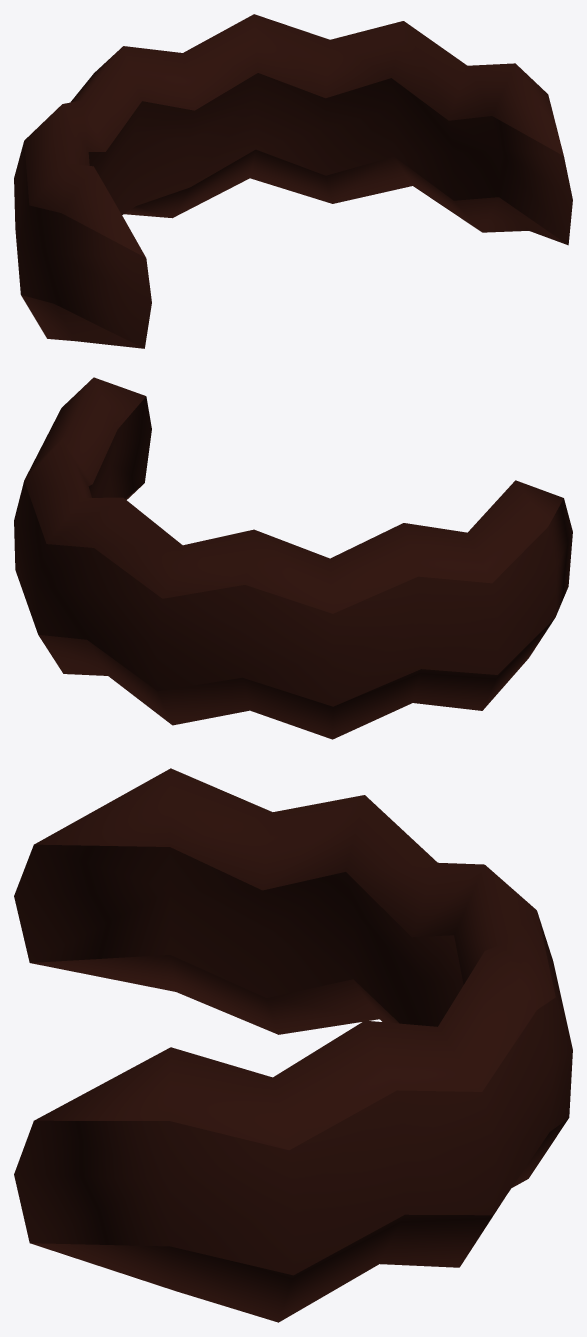
File: Hair06.FBX
3 renders of one model, top to bottom at view 1: azimuth 30°, elevation 25°; view 2: azimuth 150°, elevation 25°; view 3: azimuth 270°, elevation 25°, orthographic. The views are drawn at different scales.
Parts seen in each view (by area): view 1: Hair06; view 2: Hair06; view 3: Hair06.
Boxes of the visible parts, left/top/right/bottom form: Hair06: left=14, top=14, right=572, bottom=348; Hair06: left=14, top=377, right=572, bottom=739; Hair06: left=14, top=768, right=572, bottom=1322.
Bounding box in the file's own units: 433 × 165 × 308.
